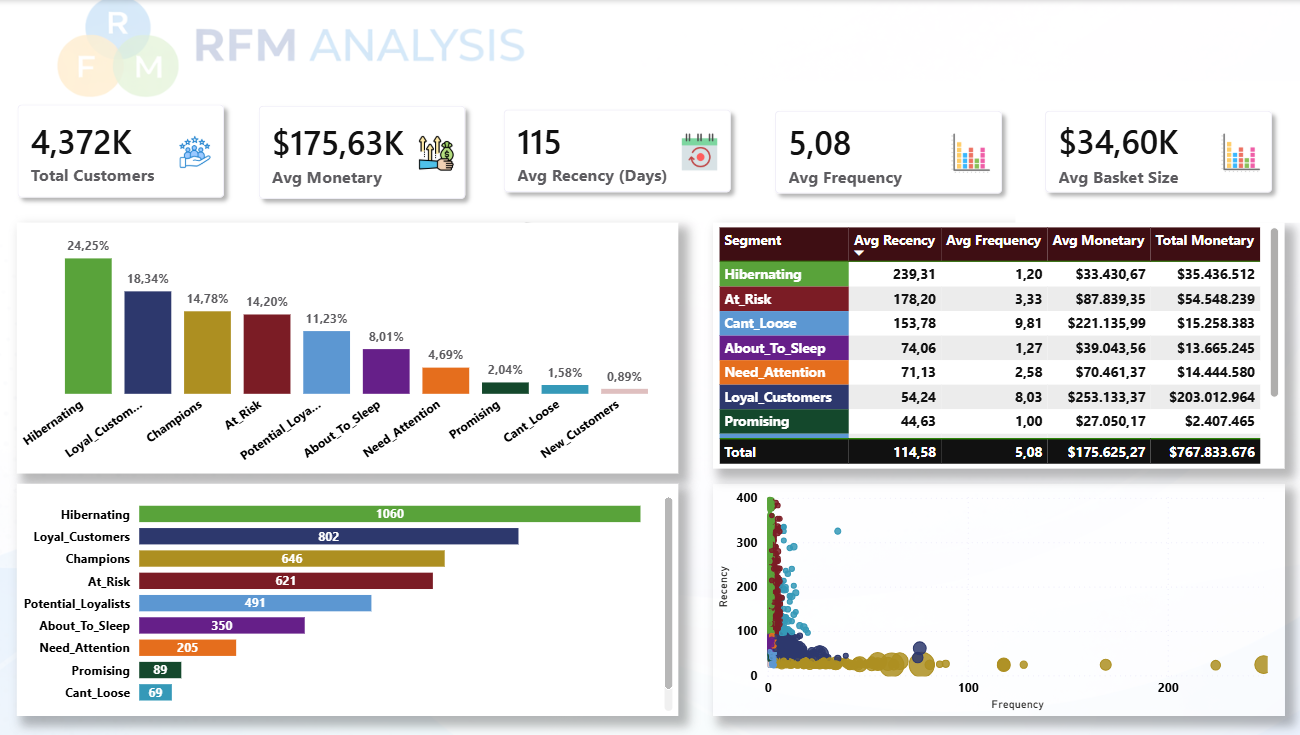

The dashboard page shown, as its layout file describes it:
{"tool":"powerbi","page":{"name":"Page 1","canvas":[1280,720],"ordinal":0},"visuals":[{"type":"cardVisual","title":"Total Customers","fields":{"Data":["Sum(RFM_ANALYSIS.Monetary)"]},"box":[267.3,168,282,141],"z":1000},{"type":"cardVisual","title":"Total Customers","fields":{"Data":["Avg(RFM_ANALYSIS.Recency)"]},"box":[470.8,78.3,280,139.4],"z":2000},{"type":"cardVisual","title":"Total Customers","fields":{"Data":["Avg(RFM_ANALYSIS.Frequency)"]},"box":[736.1,79.5,280,139.4],"z":3000},{"type":"cardVisual","title":"Total Customers","fields":{"Data":["Avg(RFM_ANALYSIS.Monetary)"]},"box":[235.4,79.5,250.7,139.4],"z":4000},{"type":"scatterChart","fields":{"X":["Sum(RFM_ANALYSIS.Frequency)"],"Y":["Sum(RFM_ANALYSIS.Recency)"],"Series":["RFM_ANALYSIS.Segment"],"Size":["Avg(RFM_ANALYSIS.Monetary)"],"Category":["RFM_ANALYSIS.CustomerID"]},"box":[704.4,473.2,558.8,227.4],"z":5000},{"type":"tableEx","fields":{"Values":["RFM_ANALYSIS.Segment","Avg(RFM_ANALYSIS.Recency)","Avg(RFM_ANALYSIS.Frequency)","Avg(RFM_ANALYSIS.Monetary)","Measure.Total_Monetary"]},"box":[704.4,217.7,558.8,240.9],"z":7000},{"type":"cardVisual","title":"Total Customers","fields":{"Data":["CountNonNull(RFM_ANALYSIS.CustomerID)"]},"box":[0,78.3,250.7,139.4],"z":7500},{"type":"columnChart","fields":{"Category":["RFM_ANALYSIS.Segment"],"Y":["Divide(CountNonNull(RFM_ANALYSIS.CustomerID), ScopedEval(CountNonNull(RFM_ANALYSIS.CustomerID), []))"],"Series":["RFM_ANALYSIS.Segment"]},"box":[23.2,217.7,646.9,245.8],"z":7750},{"type":"barChart","fields":{"Category":["RFM_ANALYSIS.Segment"],"Series":["RFM_ANALYSIS.Segment"],"Y":["CountNonNull(RFM_ANALYSIS.CustomerID)"]},"box":[23.2,473.2,646.9,227.4],"z":8000},{"type":"cardVisual","title":"Total Customers","fields":{"Data":["Measure.Avg_Basket_Size"]},"box":[1000.3,79.5,280,138.2],"z":8001}]}

Visuals, with their boxes in screenshot pixels (x1, y1, x2, y2), scaled from the page's 1280x720 canvas onto the 1300x735 screenshot:
"Total Customers" cardVisual: bbox=(271, 172, 558, 315)
"Total Customers" cardVisual: bbox=(478, 80, 763, 222)
"Total Customers" cardVisual: bbox=(748, 81, 1032, 223)
"Total Customers" cardVisual: bbox=(239, 81, 494, 223)
scatterChart - Sum(RFM_ANALYSIS.Frequency) x Sum(RFM_ANALYSIS.Recency): bbox=(715, 483, 1283, 715)
tableEx - RFM_ANALYSIS.Segment x Avg(RFM_ANALYSIS.Recency): bbox=(715, 222, 1283, 468)
"Total Customers" cardVisual: bbox=(0, 80, 255, 222)
columnChart - RFM_ANALYSIS.Segment x Divide(CountNonNull(RFM_ANALYSIS.CustomerID), ScopedEval(CountNonNull(RFM_ANALYSIS.CustomerID), [])): bbox=(24, 222, 681, 473)
barChart - RFM_ANALYSIS.Segment x RFM_ANALYSIS.Segment: bbox=(24, 483, 681, 715)
"Total Customers" cardVisual: bbox=(1016, 81, 1299, 222)
